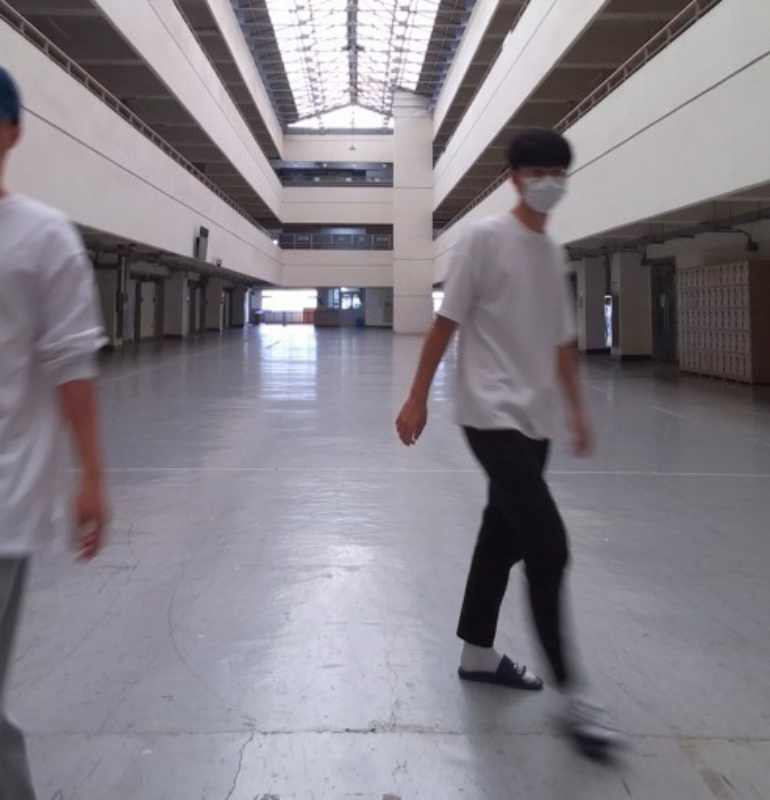person: (391, 126, 640, 753)
